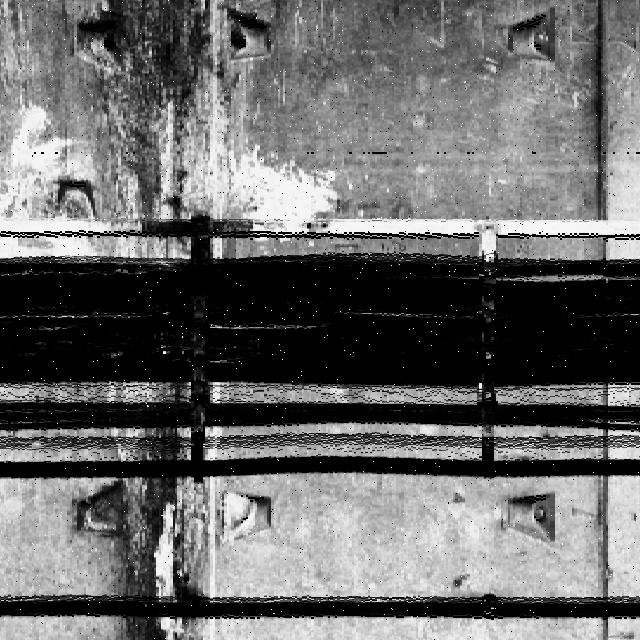leakage: (93, 0, 237, 256), (106, 387, 235, 639)
